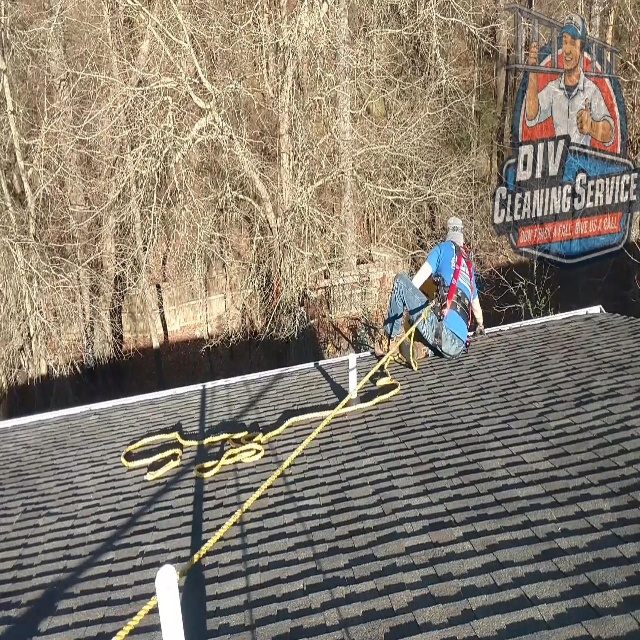Arnes_seguridad: (433, 237, 474, 361)
